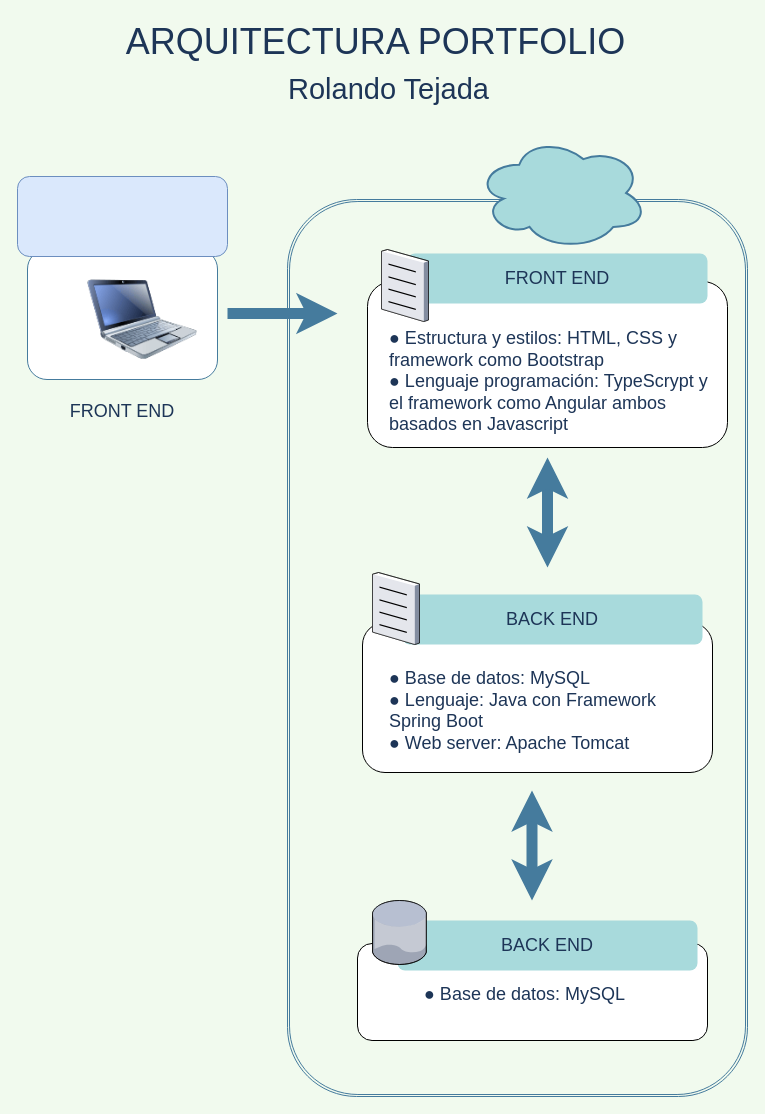
Some shapes in this 765 by 1114 pixel diagram are drawn without their labels. The shapes that lost their labels are listed below. From the top down, each one's centre as x and y in pixels, then its label:
the point at 561,192: CLOUD
the point at 122,216: NAVEGADOR CLIENTE
